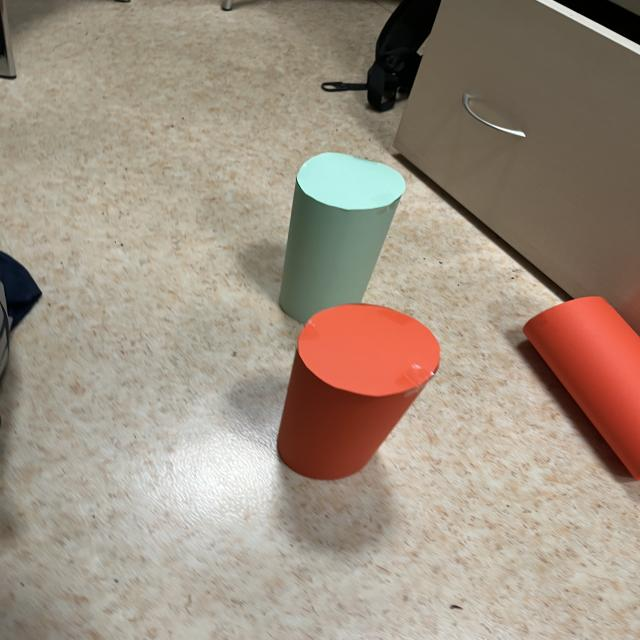meta: (279, 153, 405, 324)
przeszkoda: (277, 304, 440, 480), (523, 297, 640, 480)
